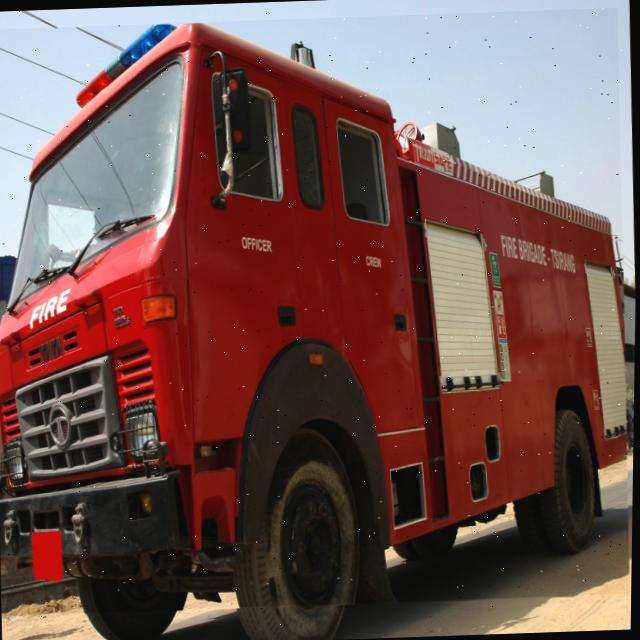Fire Truck: (0, 7, 637, 615)
